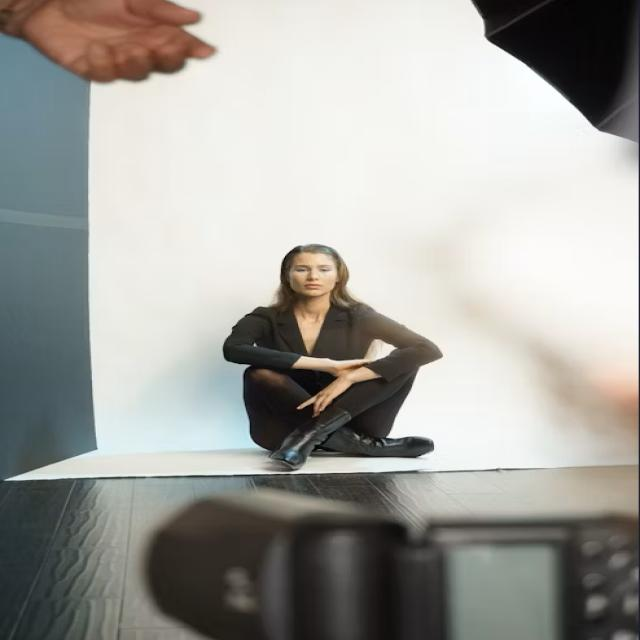Edited images: (203, 221, 475, 482)
